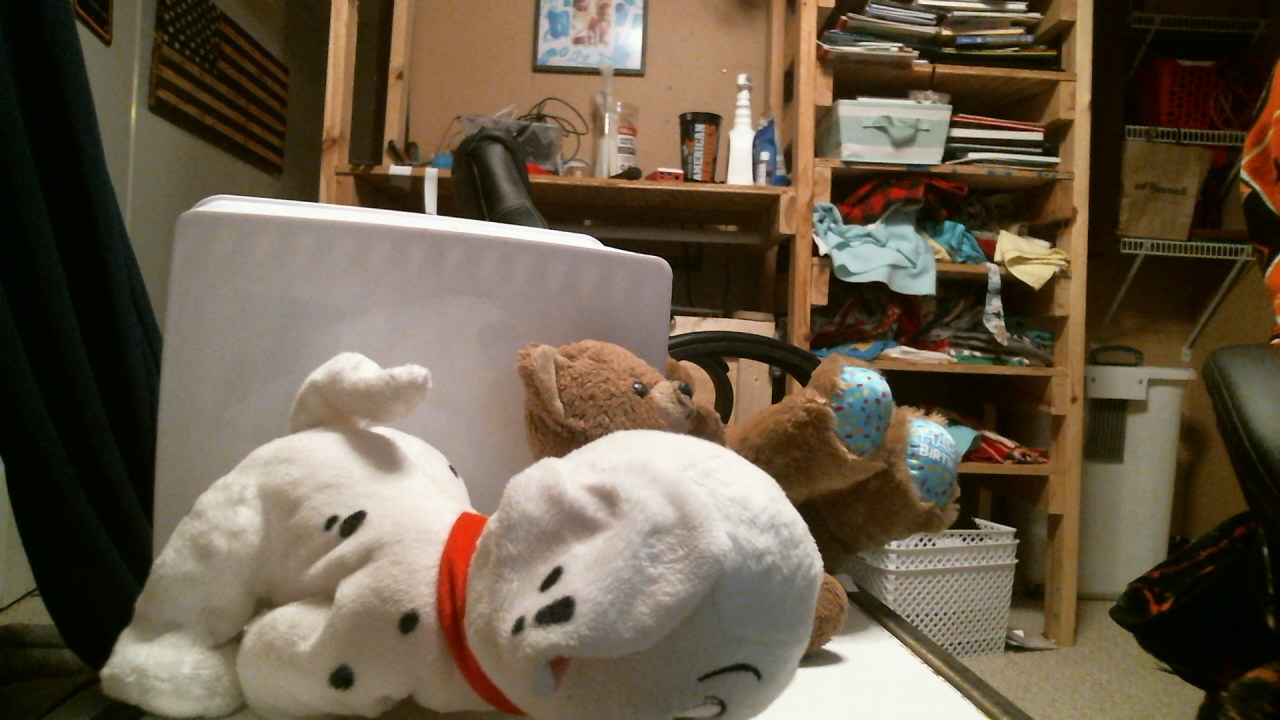Little_Mister_Bear: (612, 369, 703, 433)
